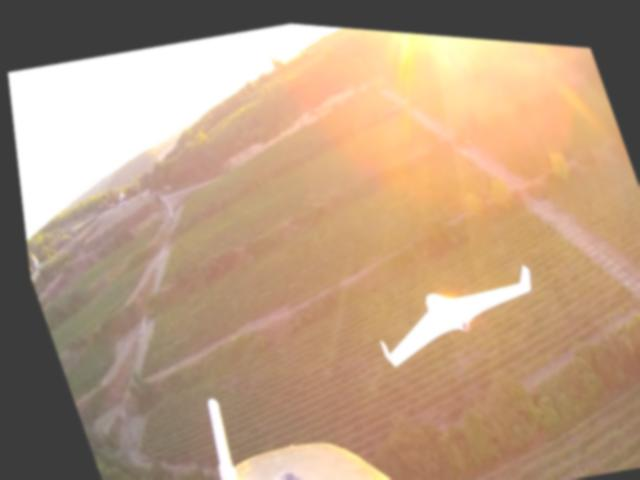plane: (351, 243, 551, 375)
